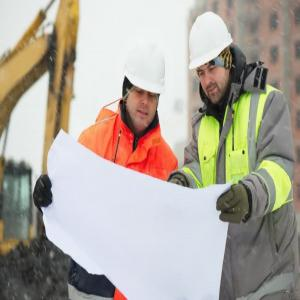white: (191, 12, 232, 107), (124, 41, 166, 128)
